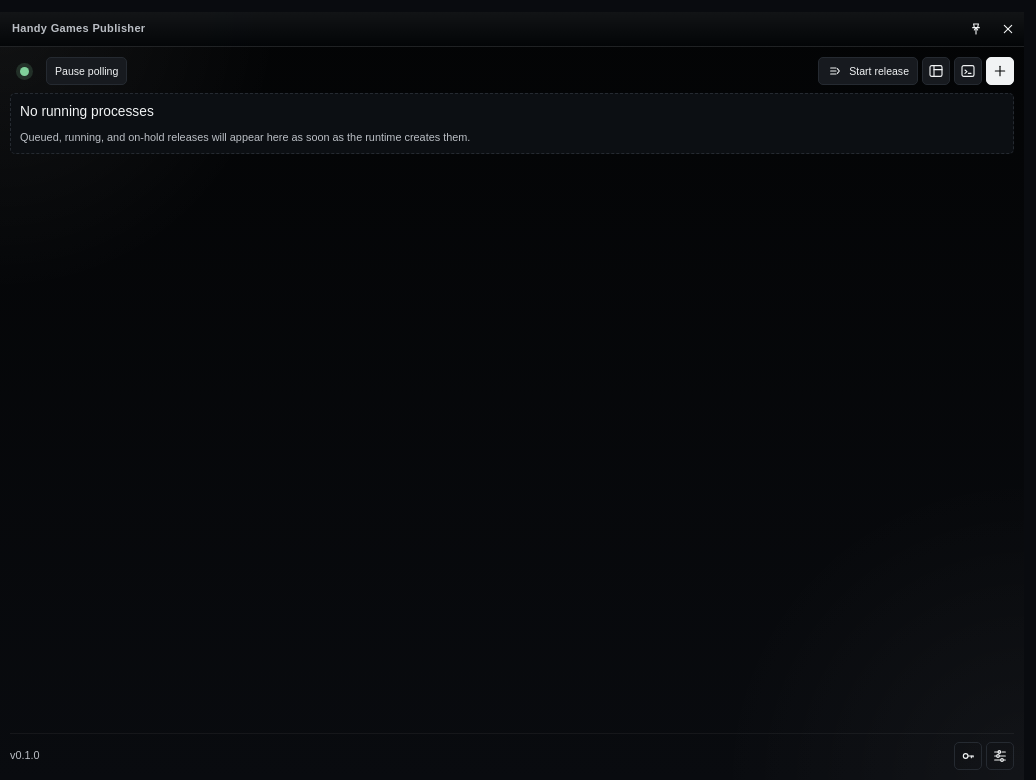
Test: App shell overlays › toggles global polling from the main shell action bar
The width and height of the screenshot is (1036, 780).
Click the button "Pause polling".
click(87, 71)  # box [46,57,127,85]
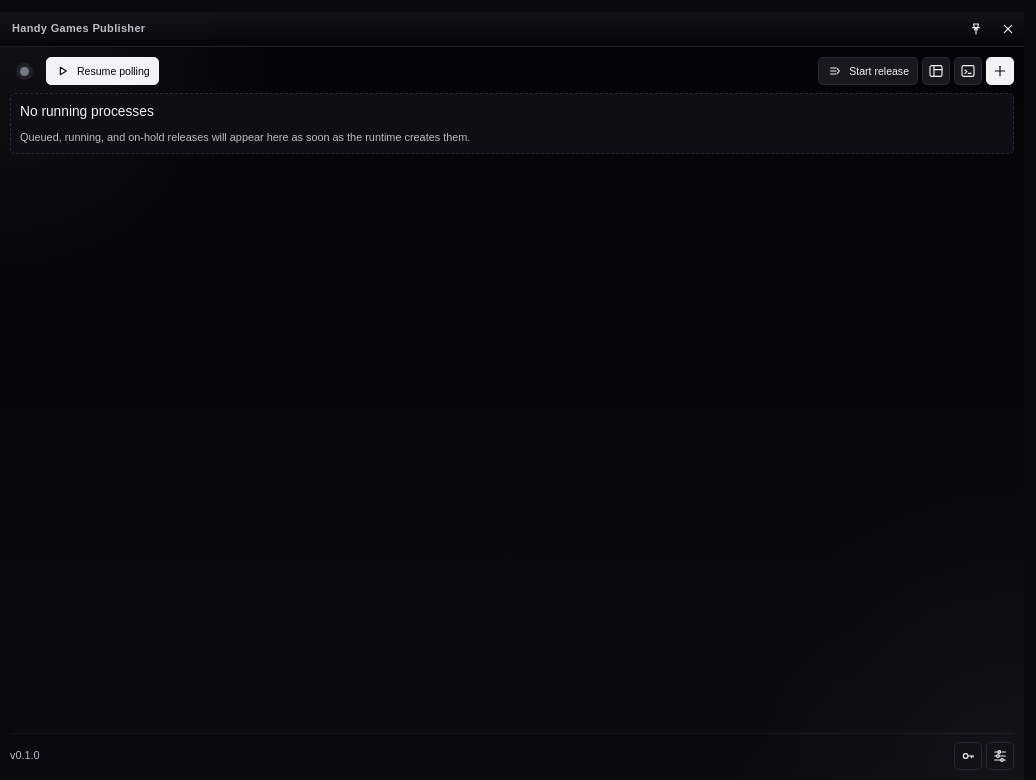
expect the button named "Automatic polling paused for 1 active project." is shown: met, box [10,57,38,85]
expect the button "Resume polling" is shown: met, box [46,57,159,85]
